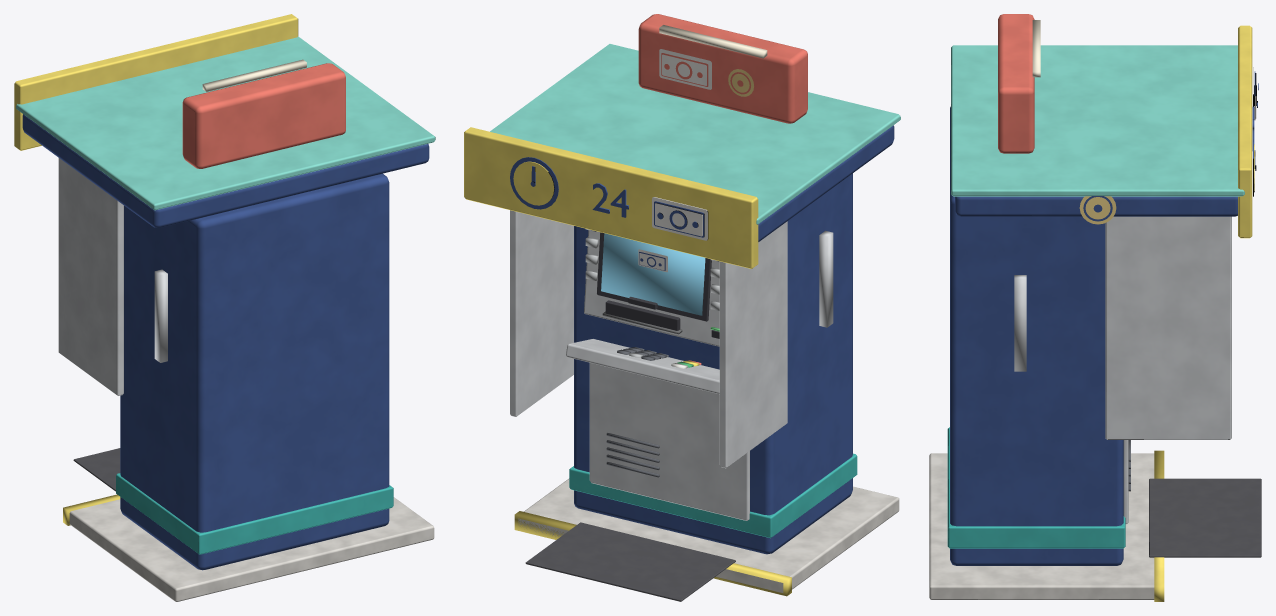
The model's file is Pagamento_ATM.fbx.
The picture shows the model from 3 angles, left to right: view 1: azimuth 30°, elevation 25°; view 2: azimuth 150°, elevation 25°; view 3: azimuth 270°, elevation 25°; orthographic projection. The views are drawn at different scales.
Parts seen in each view (by area): view 1: Pagamento_ATM; view 2: Pagamento_ATM; view 3: Pagamento_ATM.
Part boxes in pixels (<box>): Pagamento_ATM: <box>14,14,435,601</box>; Pagamento_ATM: <box>464,14,900,601</box>; Pagamento_ATM: <box>929,14,1261,601</box>.
Size of the model in its own units: 1.69 by 2.64 by 1.63.
1 material, 1 textured.
